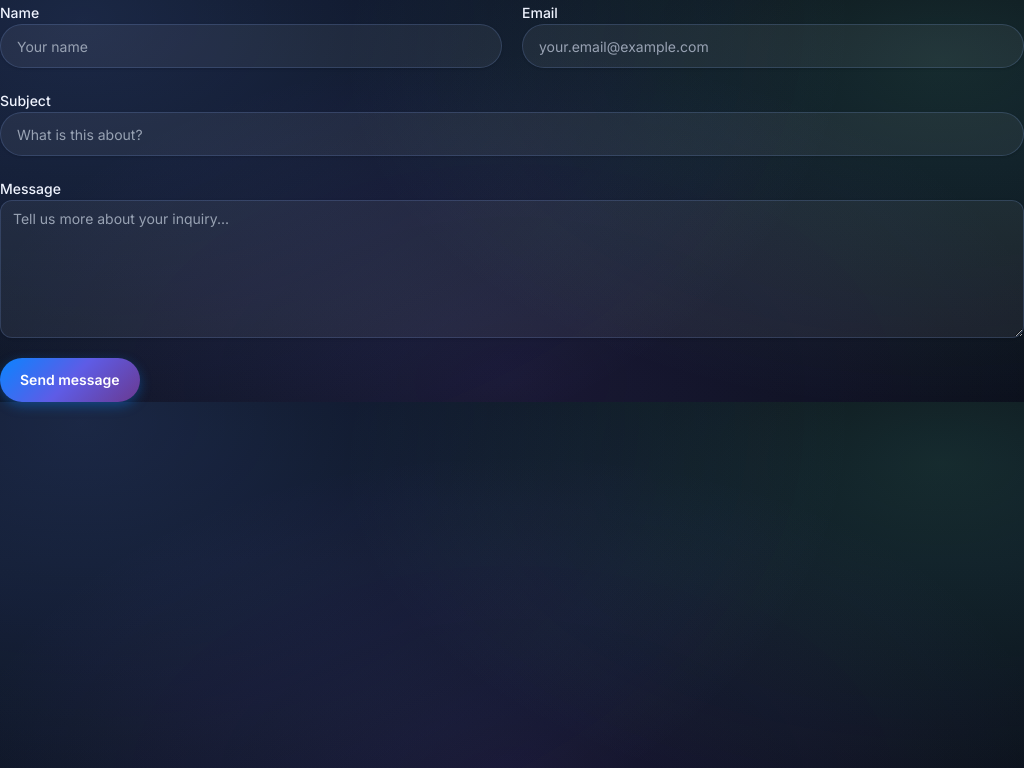
Test: ContactForm › shows inline error on API failure
The width and height of the screenshot is (1024, 768).
Type "Dave" into the field with placeholder "Your name" at (251, 46), box top-left (0, 24), bottom-right (502, 68)
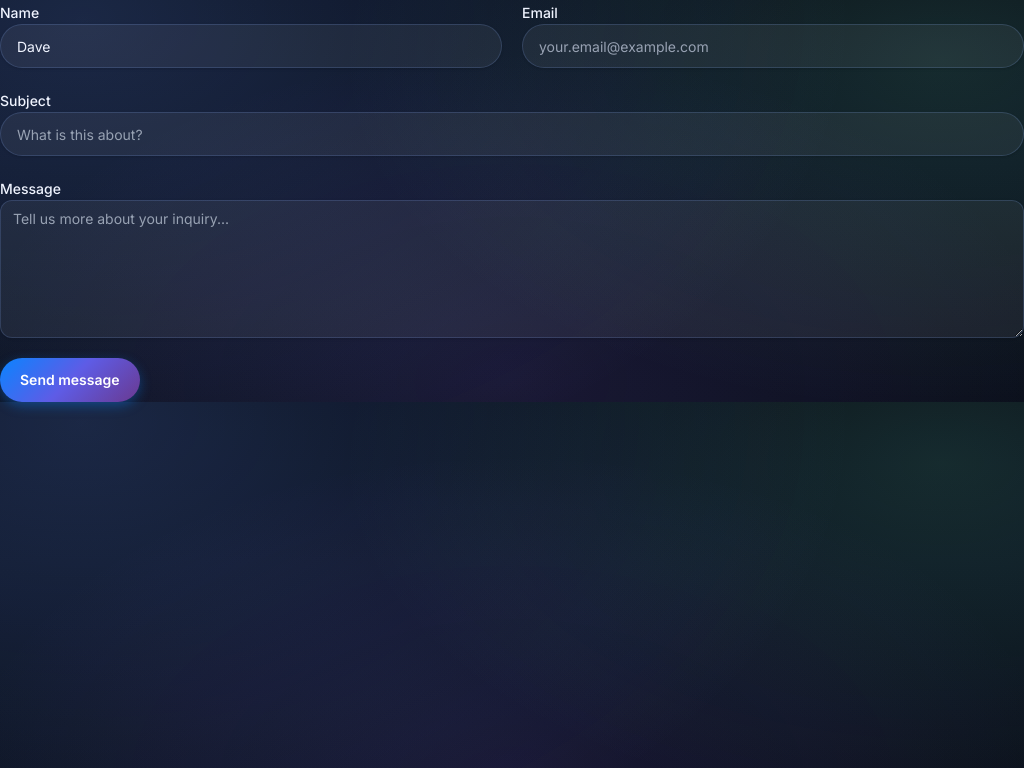
Type "dave@example.com" into the field with placeholder "your.email@example.com" at (773, 46), box top-left (522, 24), bottom-right (1023, 68)
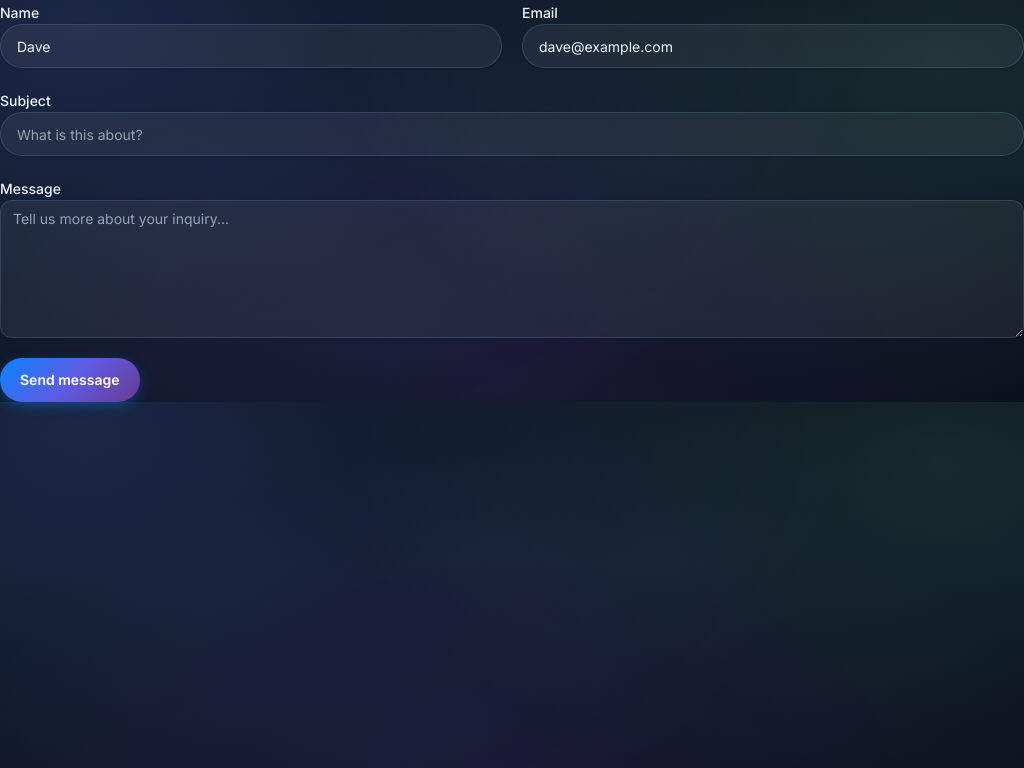
Type "Error" into the field with placeholder "What is this about?" at (512, 134), box top-left (0, 112), bottom-right (1023, 156)
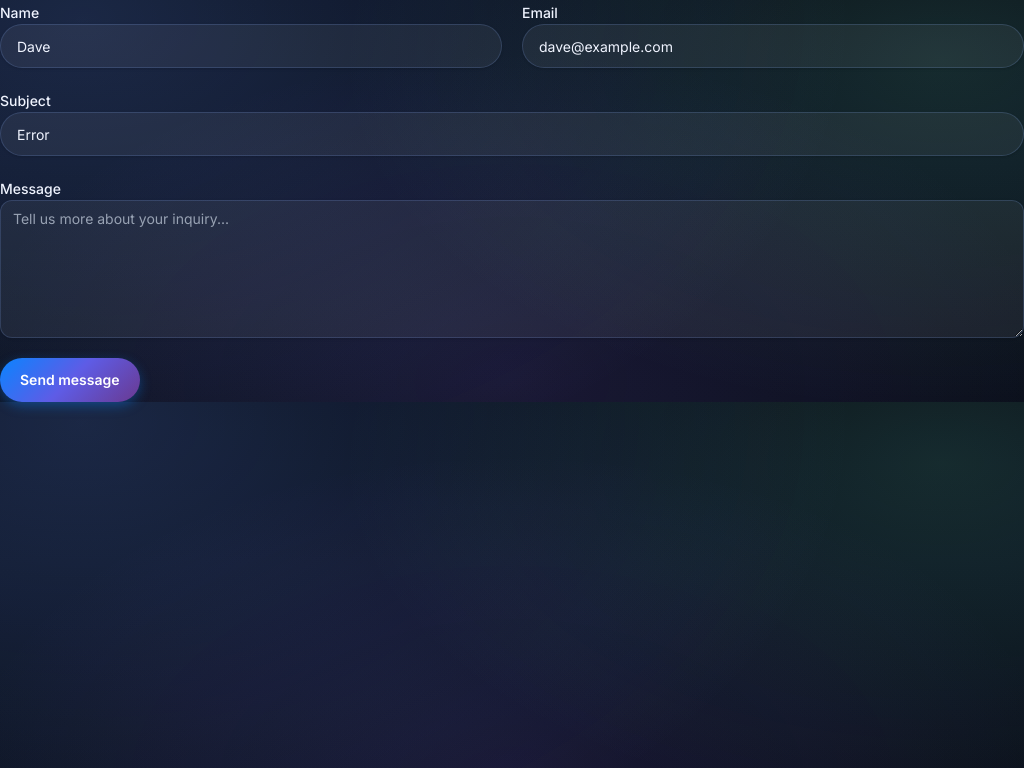
Type "Testing error" into the text box with placeholder "Tell us more about your inquiry..." at (512, 269), box top-left (0, 200), bottom-right (1023, 338)
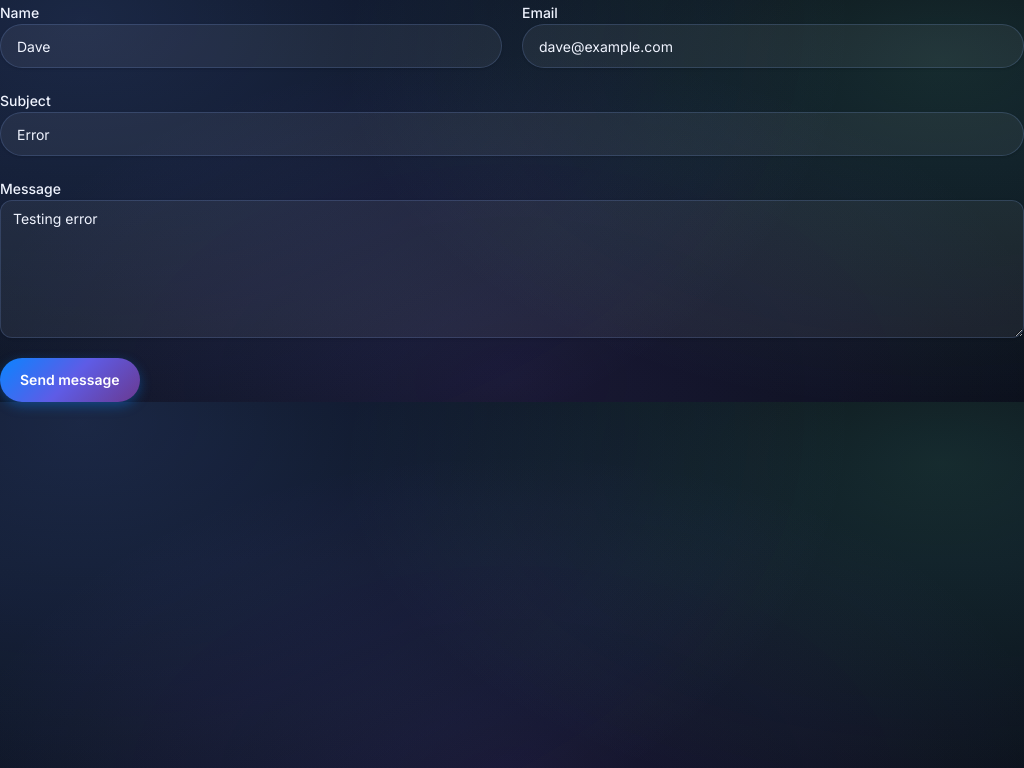
Click the button "Send message" at (70, 380), box top-left (0, 358), bottom-right (140, 402)
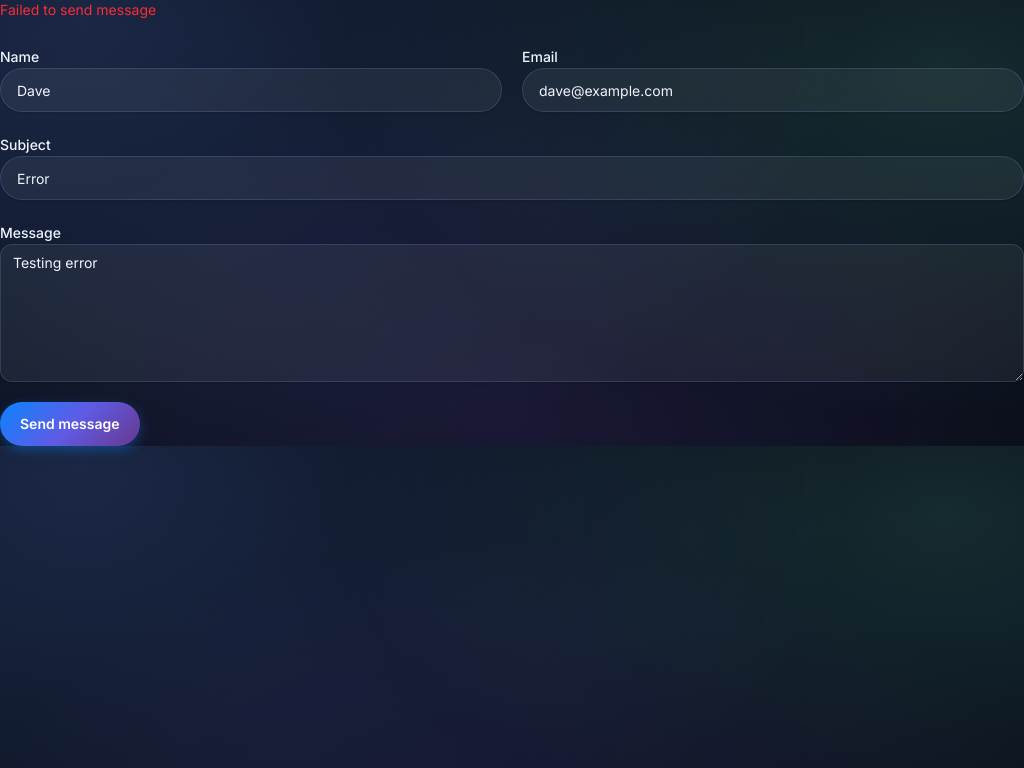
Check: the button "Send message" is shown, box top-left (0, 402), bottom-right (140, 446)
Check: the text "Failed to send message" is shown, box top-left (0, 1), bottom-right (156, 18)
